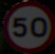Speed limit: (7, 2, 52, 48)
